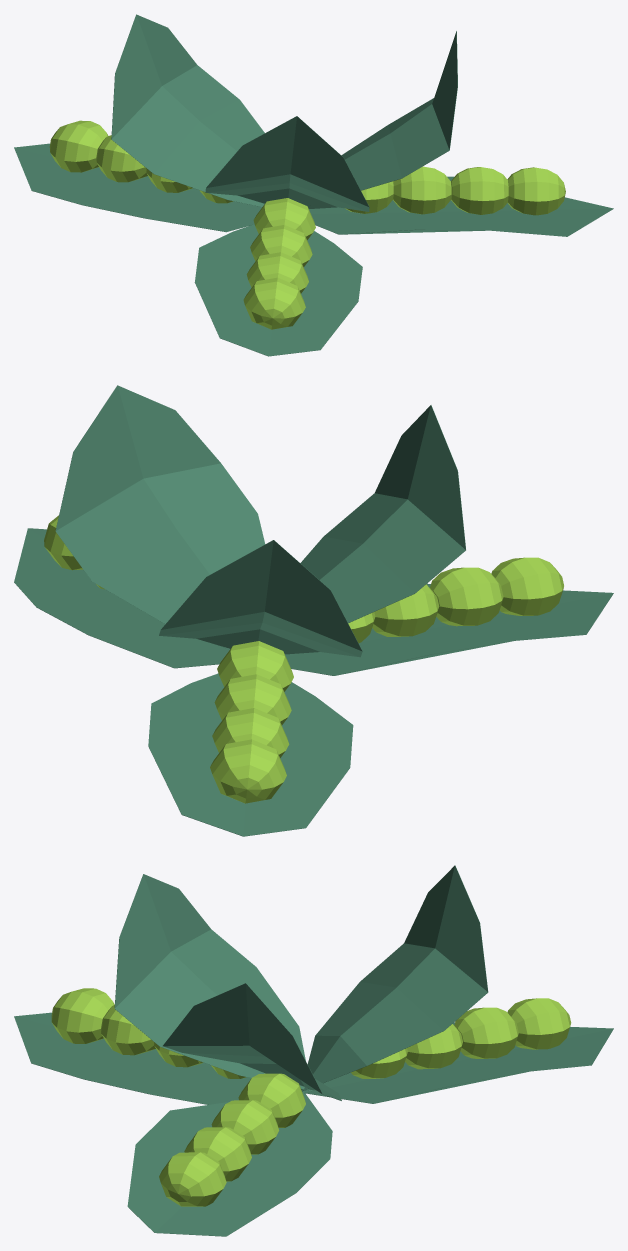
File: soy_product.fbx
3 views of the same model, one above another, from view 1: azimuth 30°, elevation 25°; view 2: azimuth 150°, elevation 25°; view 3: azimuth 270°, elevation 25° (orthographic). The views are drawn at different scales.
Visible parts, largest first — view 1: Sphere.009; view 2: Sphere.009; view 3: Sphere.009.
Part boxes in pixels (x1=…): Sphere.009: x1=14, y1=14, x2=613, y2=356; Sphere.009: x1=14, y1=385, x2=613, y2=836; Sphere.009: x1=14, y1=865, x2=613, y2=1236.
Bounding box in the file's own units: 208 × 88.66 × 236.
